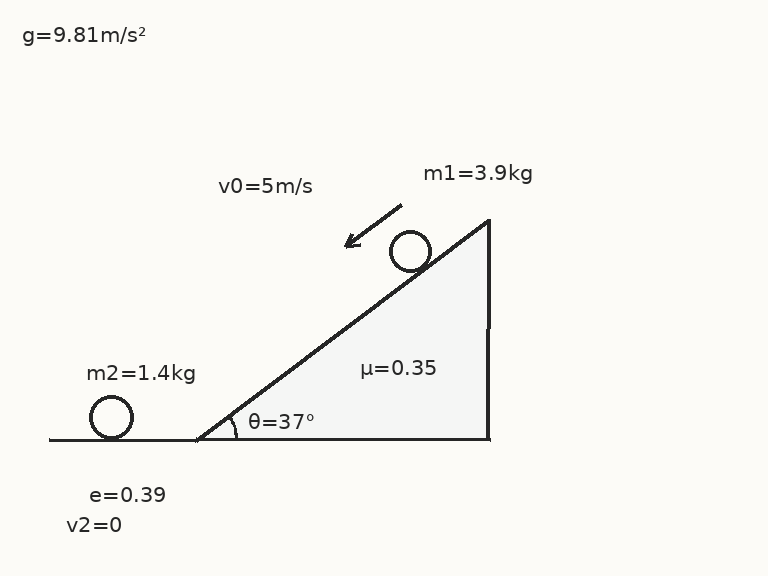ball: (87, 393, 135, 441), (387, 228, 433, 274)
ramp: (194, 217, 490, 441)
